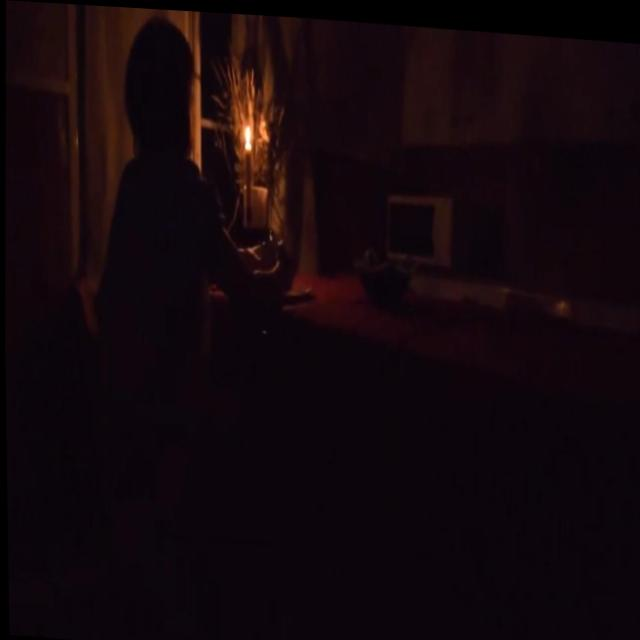fire: (240, 116, 254, 146)
